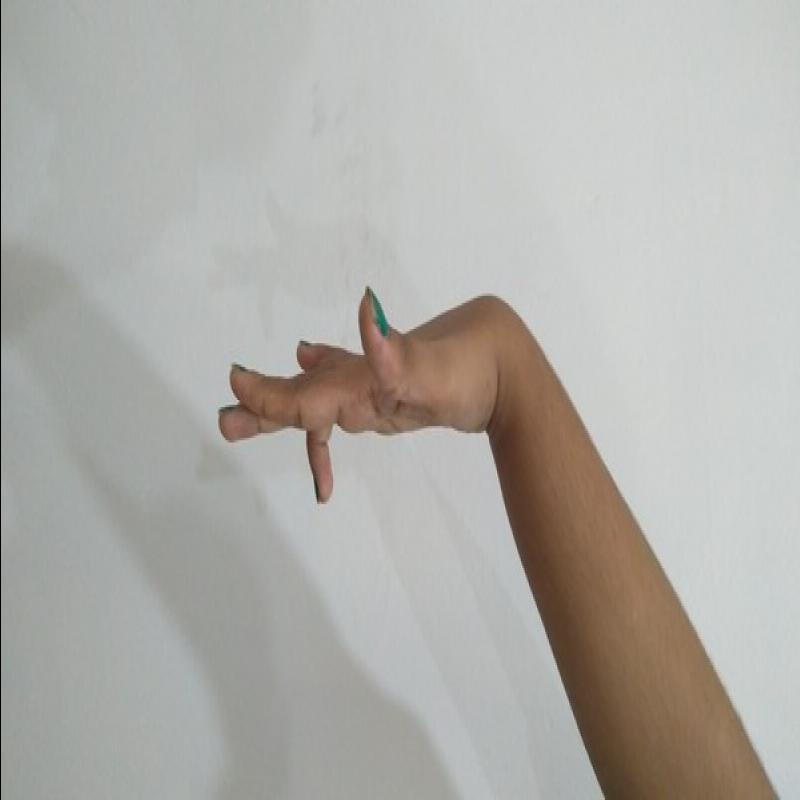Pathaaka: (172, 278, 497, 511)
